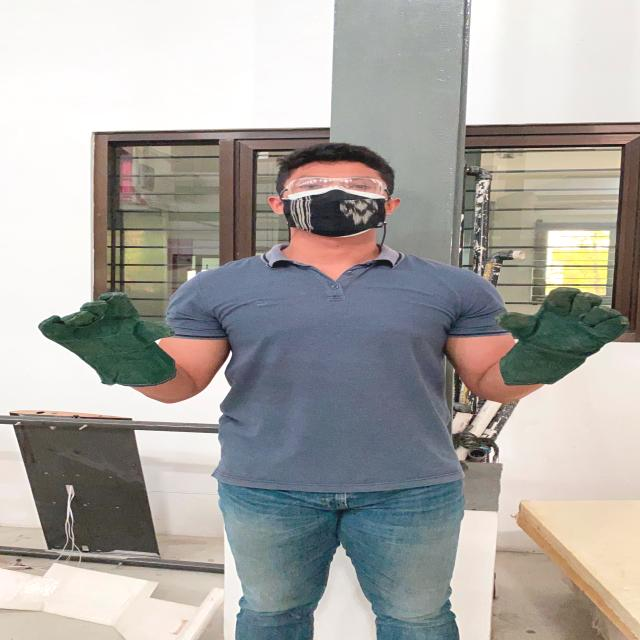face_mask: (276, 172, 394, 236)
glasses: (274, 174, 399, 201)
hand_glove: (488, 282, 638, 363), (34, 291, 176, 369)
head_nohelmet: (274, 140, 398, 181)
person: (92, 139, 537, 631)
